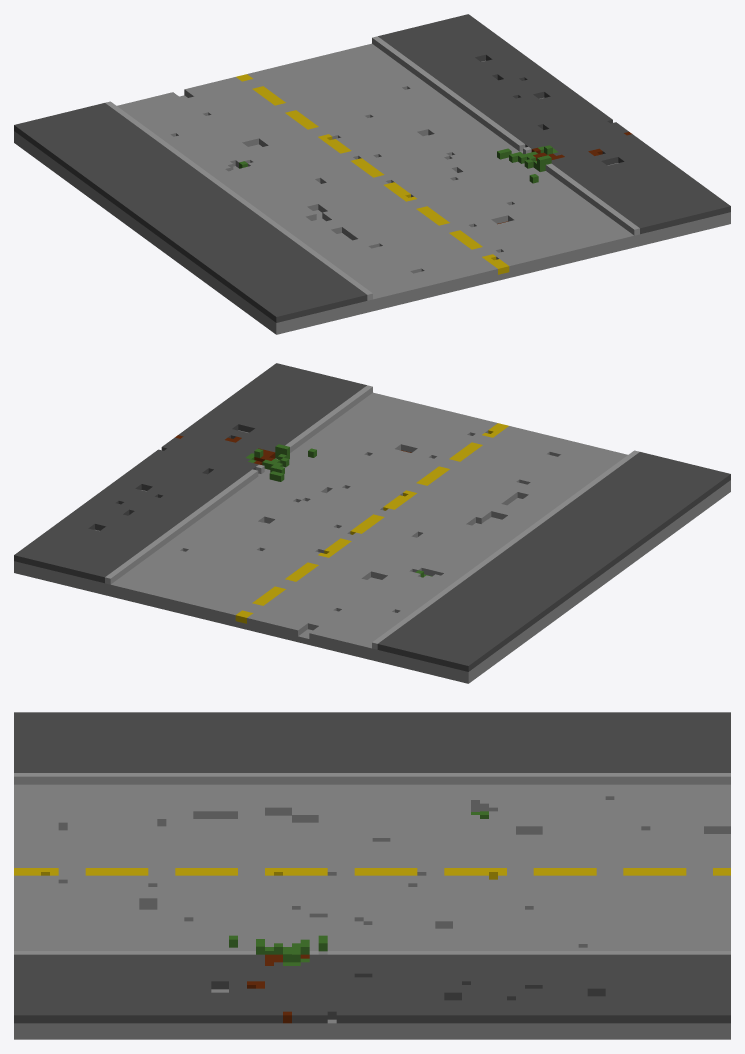
The model's file is road.obj.
3 renders of one model, top to bottom at view 1: azimuth 30°, elevation 25°; view 2: azimuth 150°, elevation 25°; view 3: azimuth 270°, elevation 25°, orthographic. The views are drawn at different scales.
Bounding box in the file's own units: 8 × 0.4 × 8.
Materials: 1 (1 with a texture image).
